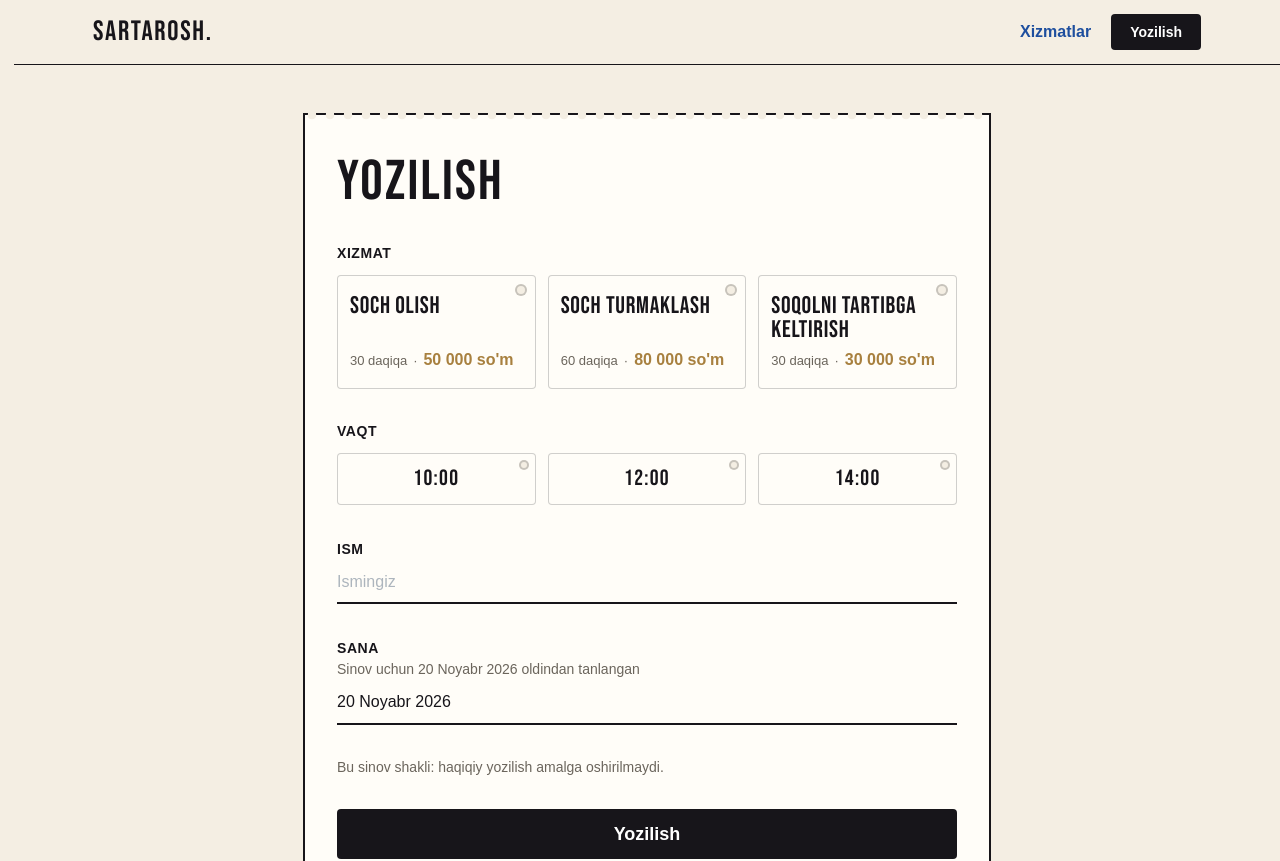
Test: check 2c: nothing chosen -> all three errors, fixing one field clears only that error
Click the button with test id "submit-booking".
click(647, 834)  # box [337,809,957,859]
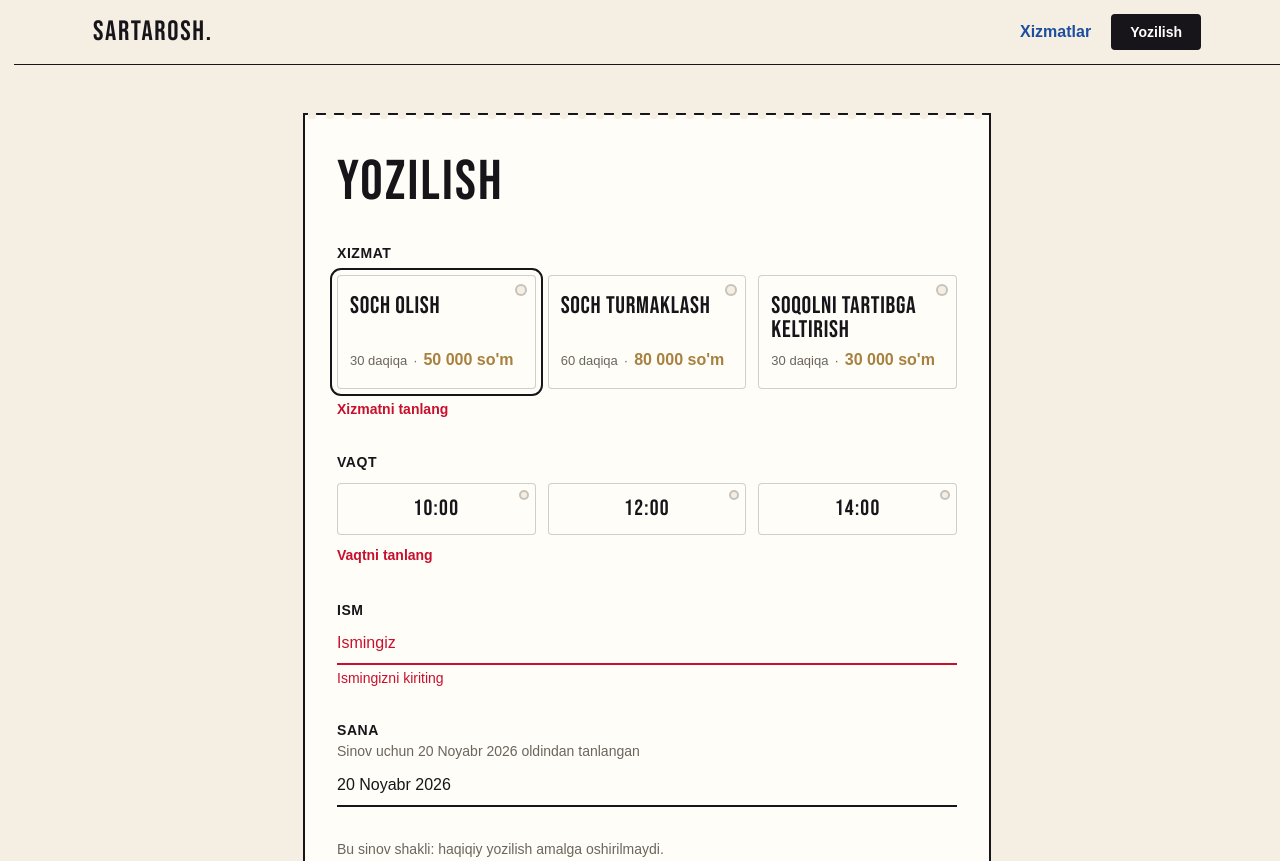
Now the text "Ismingizni kiriting" is shown, box [337,670,444,686]
Now the text "Xizmatni tanlang" is shown, box [337,402,448,418]
Now the text "Vaqtni tanlang" is shown, box [337,548,433,564]
Click the radio button with test id "service-S02".
click(647, 332)  # box [548,275,746,390]
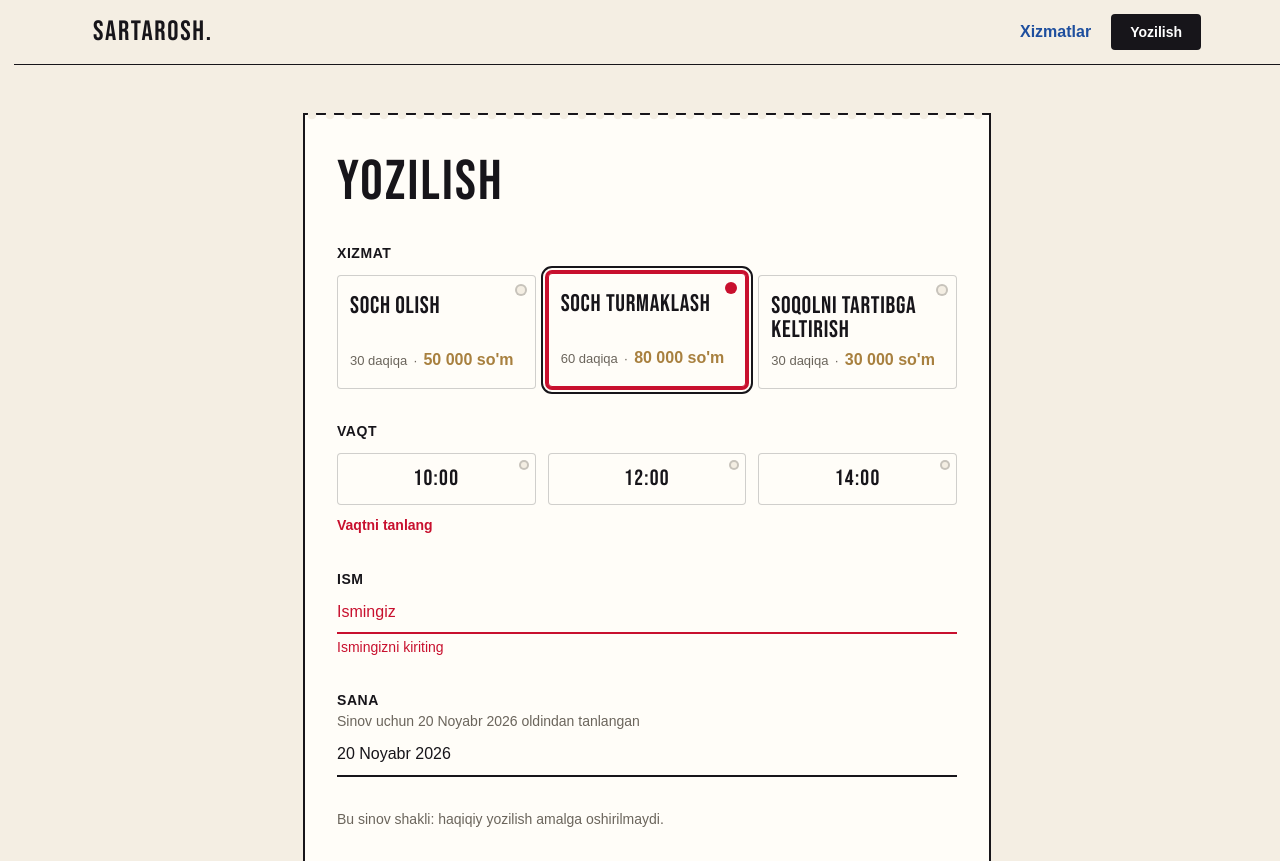
Now the text "Vaqtni tanlang" is shown, box [337,517,433,533]
Now the text "Xizmatni tanlang" is gone
